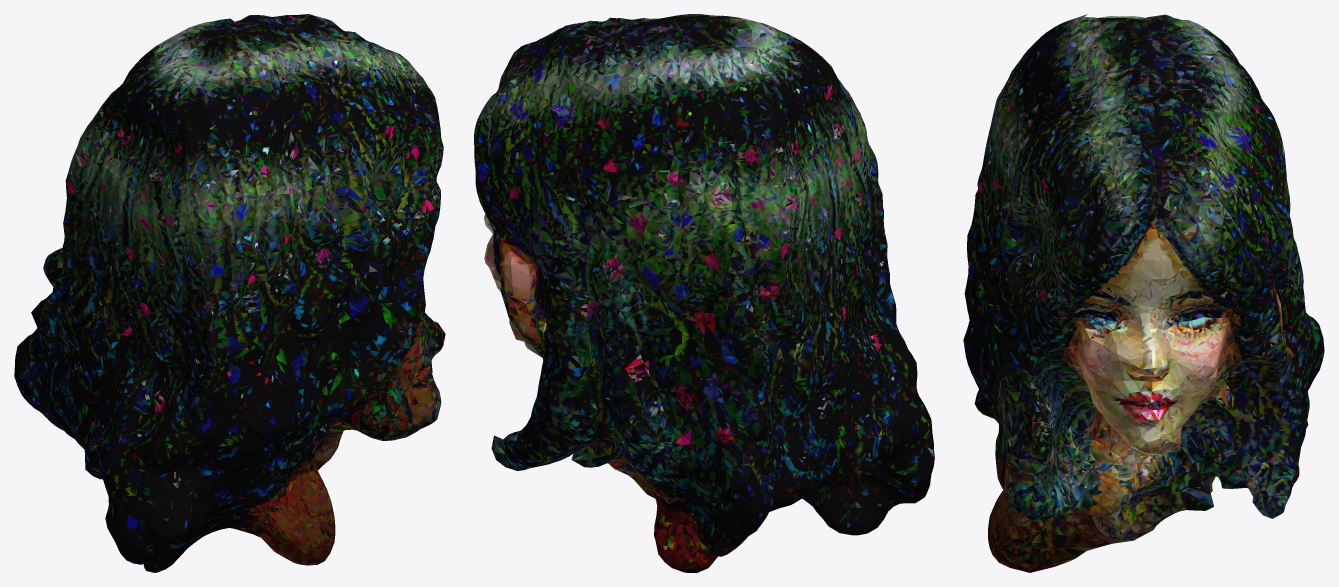
The model's file is girl_head-canny.glb.
3 renders of one model, left to right at view 1: azimuth 30°, elevation 25°; view 2: azimuth 150°, elevation 25°; view 3: azimuth 270°, elevation 25°, orthographic. The views are drawn at different scales.
Visible parts, largest first — view 1: extracted_mesh; view 2: extracted_mesh; view 3: extracted_mesh.
Boxes of the visible parts, x1,y1,x2,y2 form: extracted_mesh: [14, 14, 445, 572]; extracted_mesh: [474, 14, 934, 572]; extracted_mesh: [963, 14, 1324, 572].
Size of the model in its own units: 0.9807 by 1.27 by 0.7771.
1 material, 1 textured.
